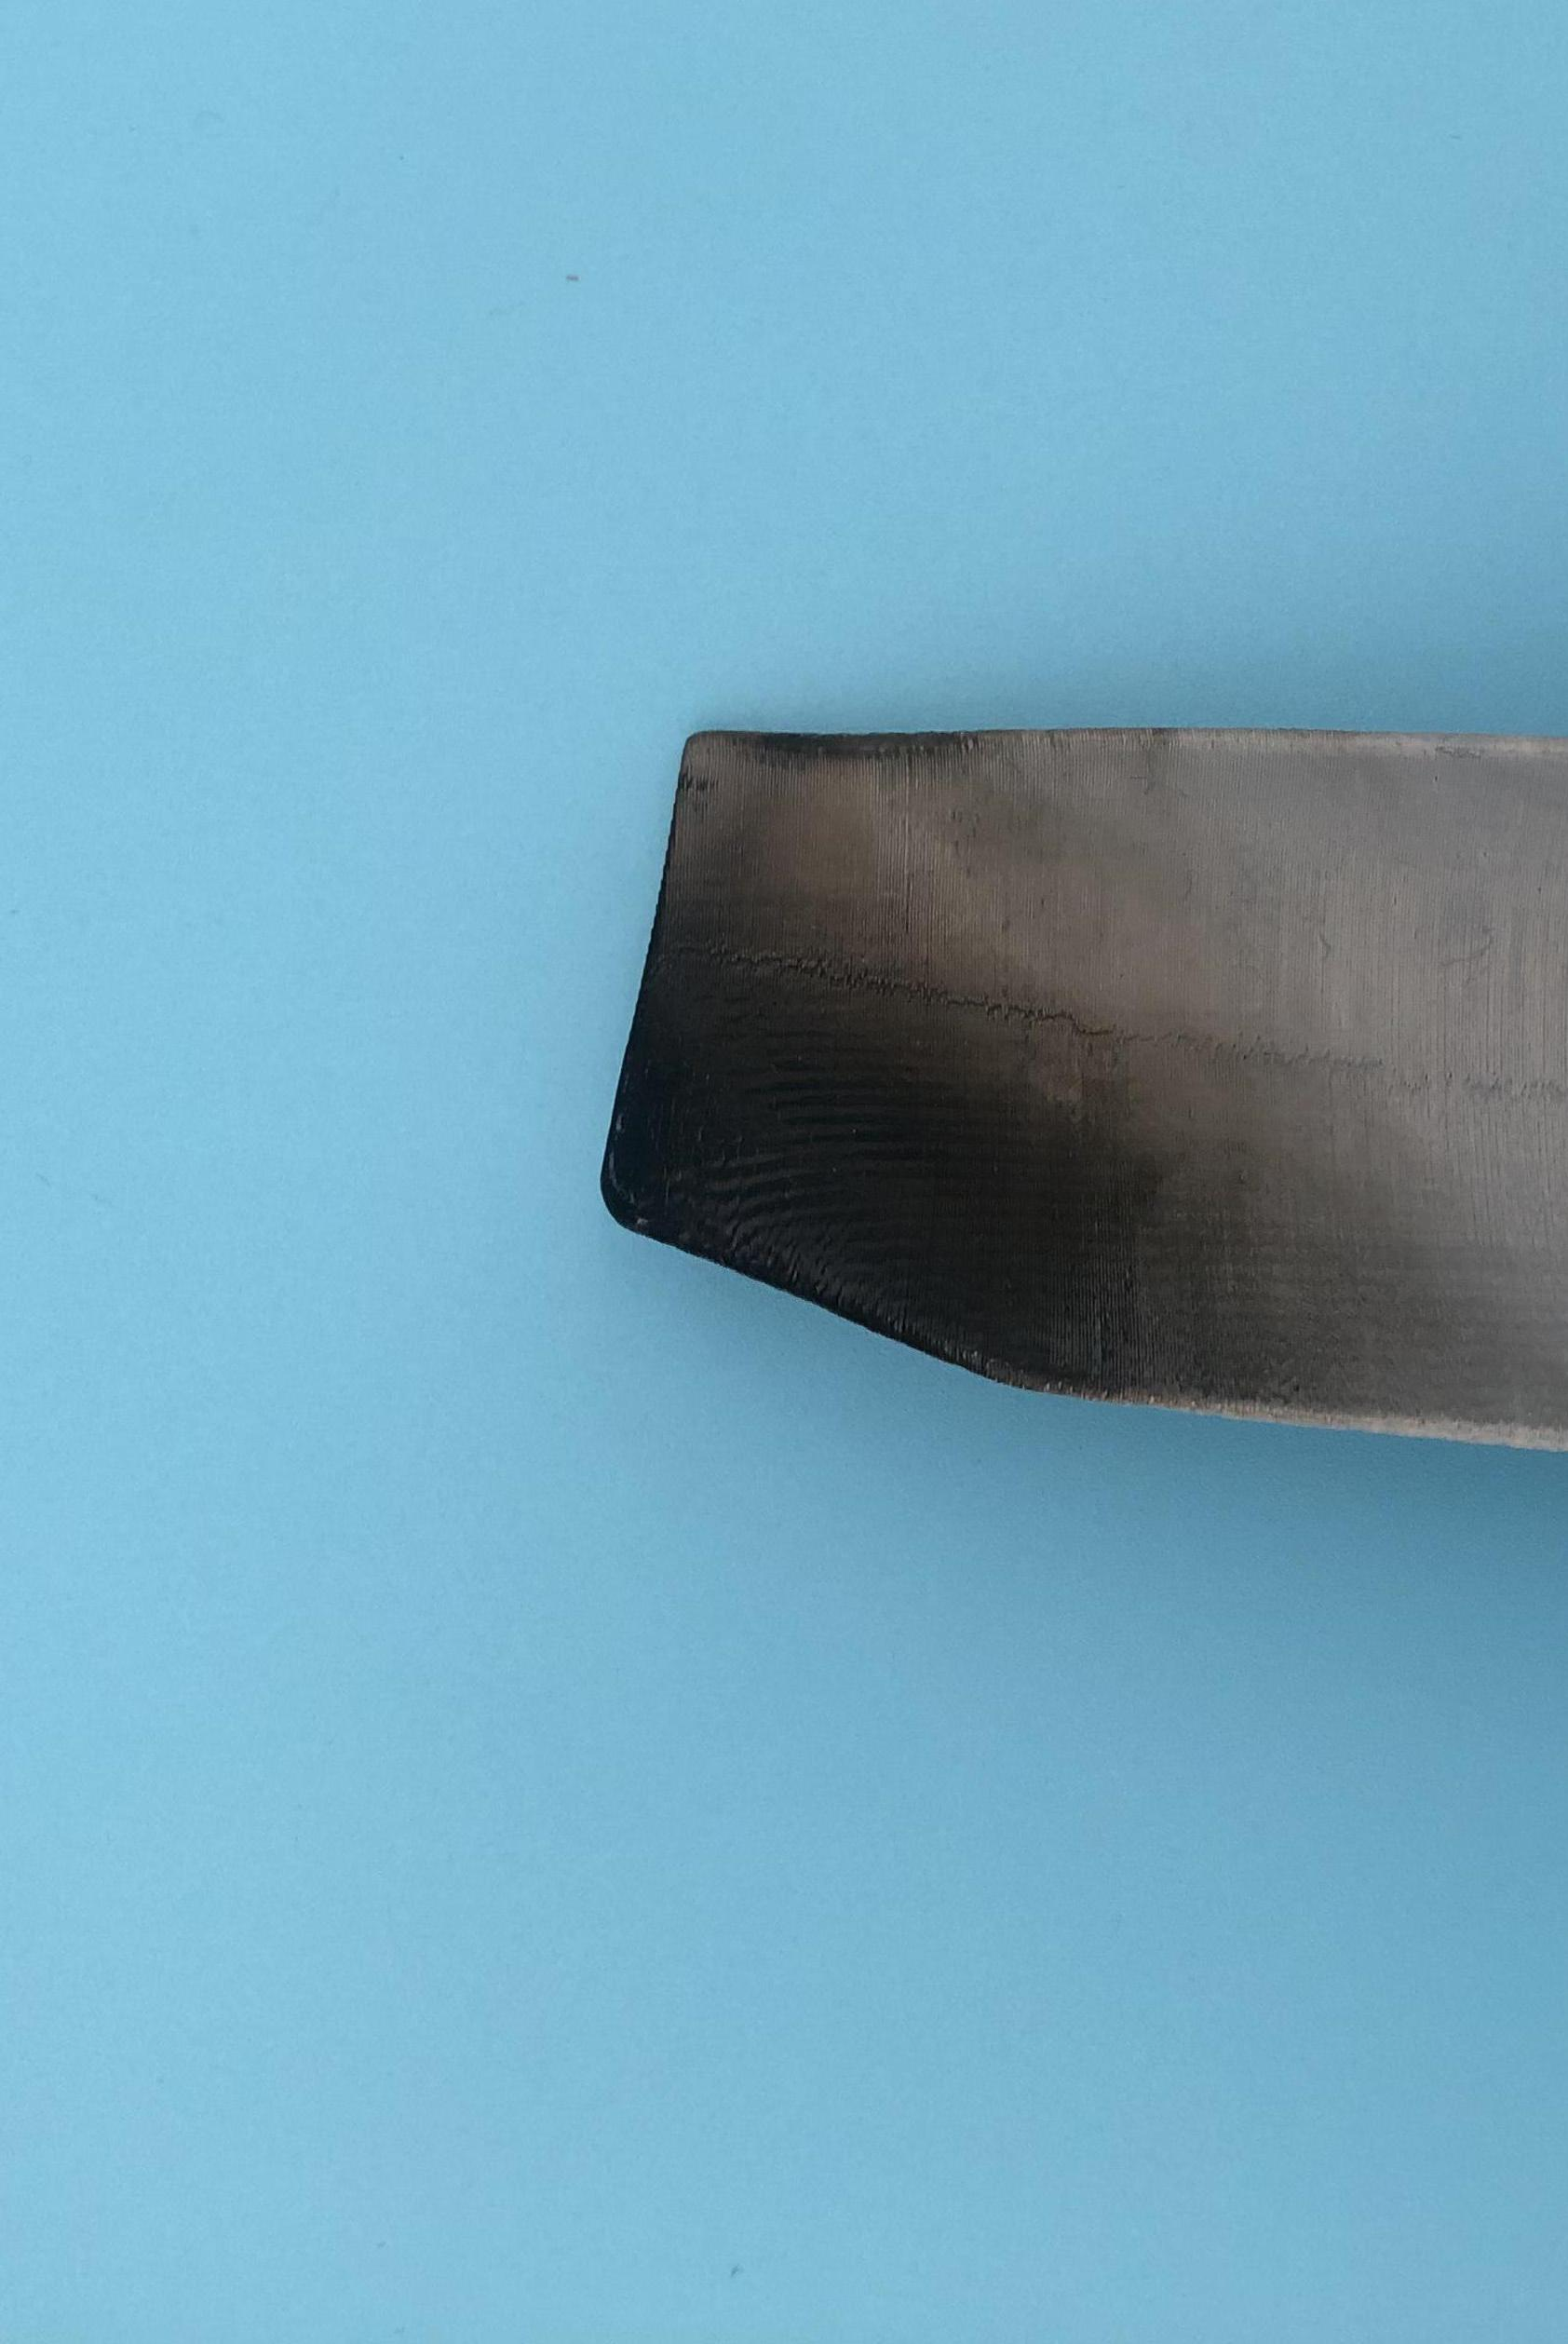ablation: (623, 896, 1297, 1385)
